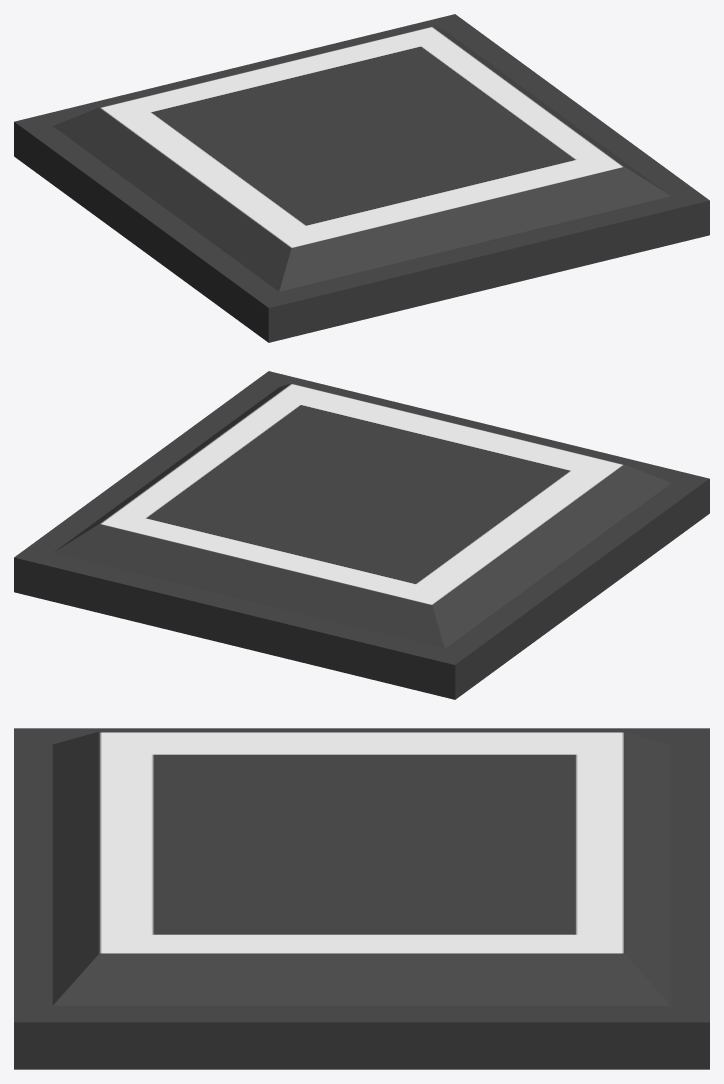
File: switch.fbx
3 renders of one model, top to bottom at view 1: azimuth 30°, elevation 25°; view 2: azimuth 150°, elevation 25°; view 3: azimuth 270°, elevation 25°, orthographic. The views are drawn at different scales.
Visible parts, largest first — view 1: Cube; view 2: Cube; view 3: Cube.
Boxes of the visible parts, x1,y1,x2,y2 form: Cube: (14, 14, 709, 342); Cube: (14, 371, 709, 699); Cube: (14, 728, 709, 1069).
Size of the model in its own units: 345 by 43.6 by 345.
